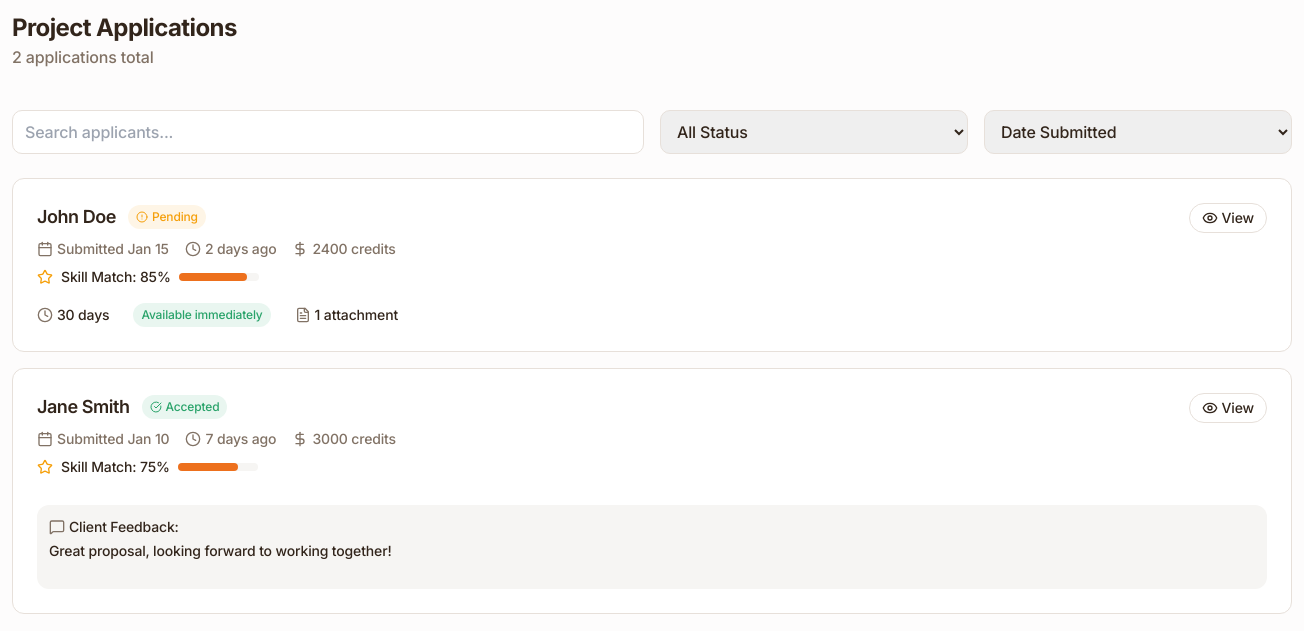
Test: ApplicationsView › Filtering and Sorting › filters applications by search query
Type "John" into the field with placeholder "Search applicants..." at (328, 132), box [12,110,644,154]
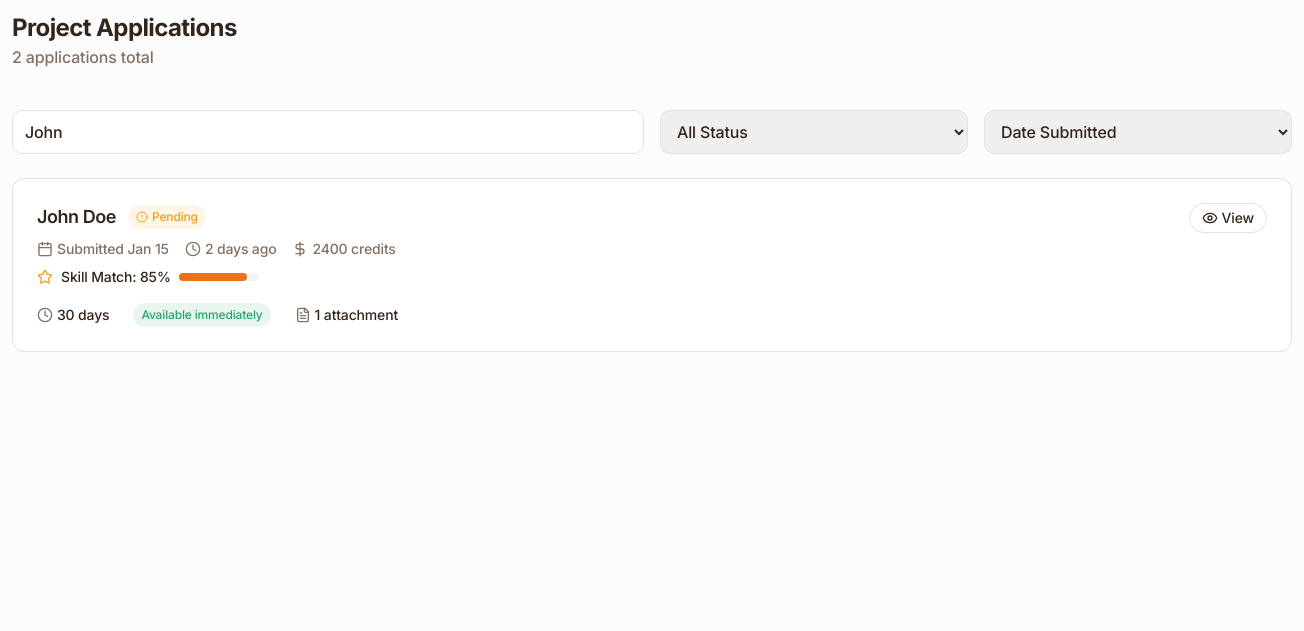
Expected: the heading "John Doe" is shown, [37,203,116,231]
Expected: the heading "Jane Smith" is gone
